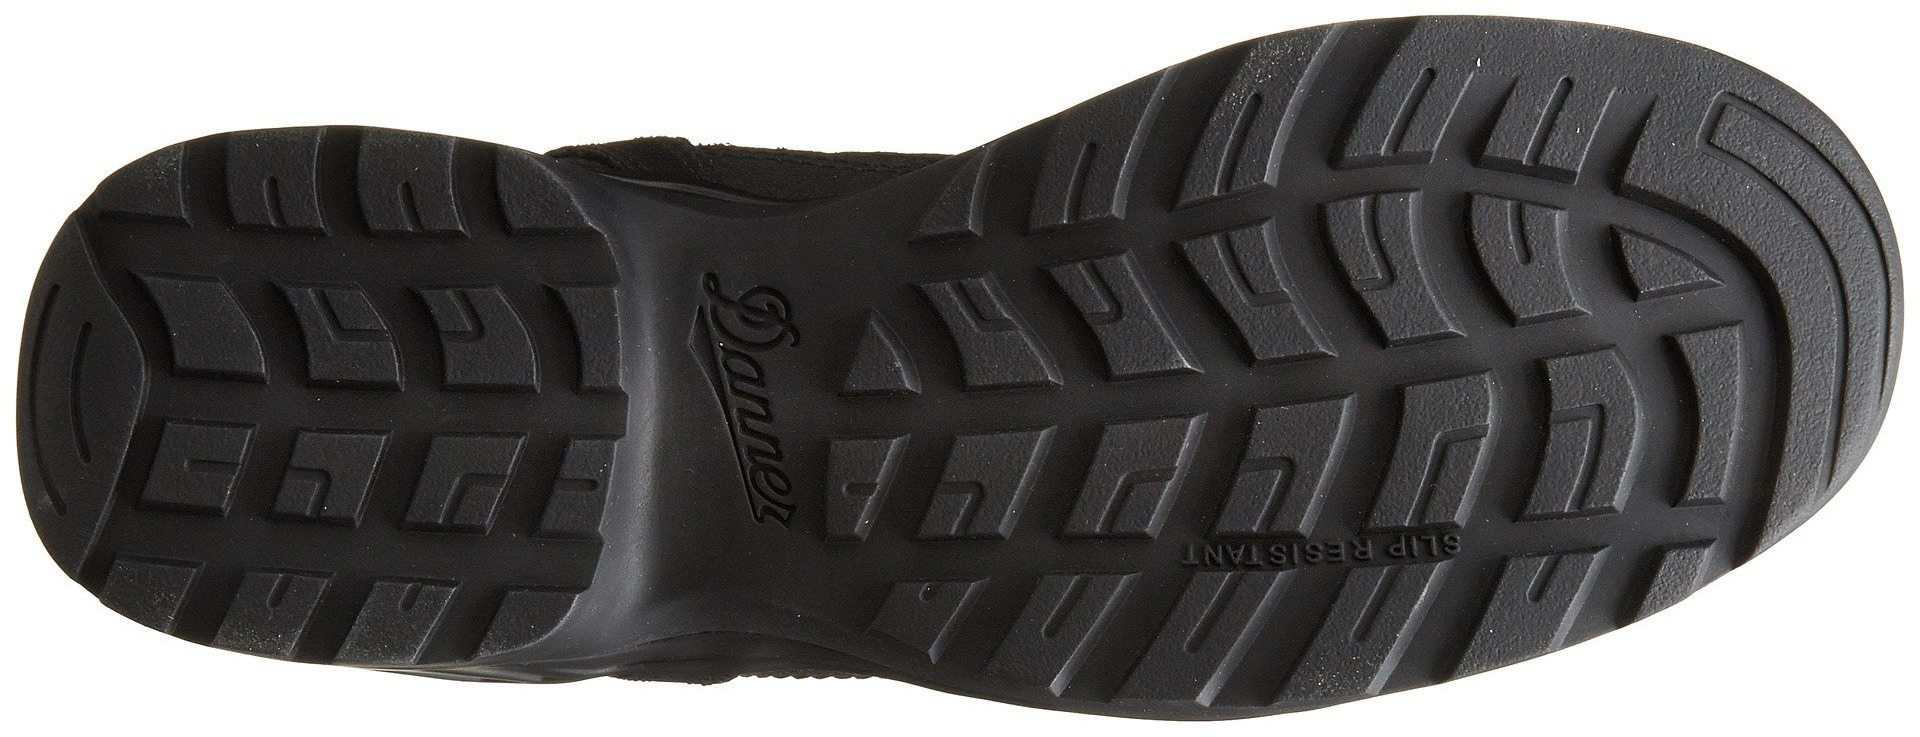line: (1171, 375, 1484, 630), (1187, 5, 1485, 214), (1464, 152, 1742, 337), (873, 563, 1149, 725), (812, 275, 1079, 421), (1509, 343, 1660, 535), (20, 323, 130, 436)
quad: (928, 160, 1452, 668), (104, 189, 561, 616), (1447, 129, 1839, 526), (1171, 375, 1484, 630), (1187, 5, 1485, 214), (1464, 152, 1742, 337), (873, 563, 1149, 725), (812, 275, 1079, 421), (1509, 343, 1660, 535), (1611, 515, 1740, 664)
text: (1171, 375, 1484, 630), (643, 247, 840, 537)
triangle: (643, 247, 840, 537), (1464, 152, 1742, 337), (812, 275, 1079, 421)
